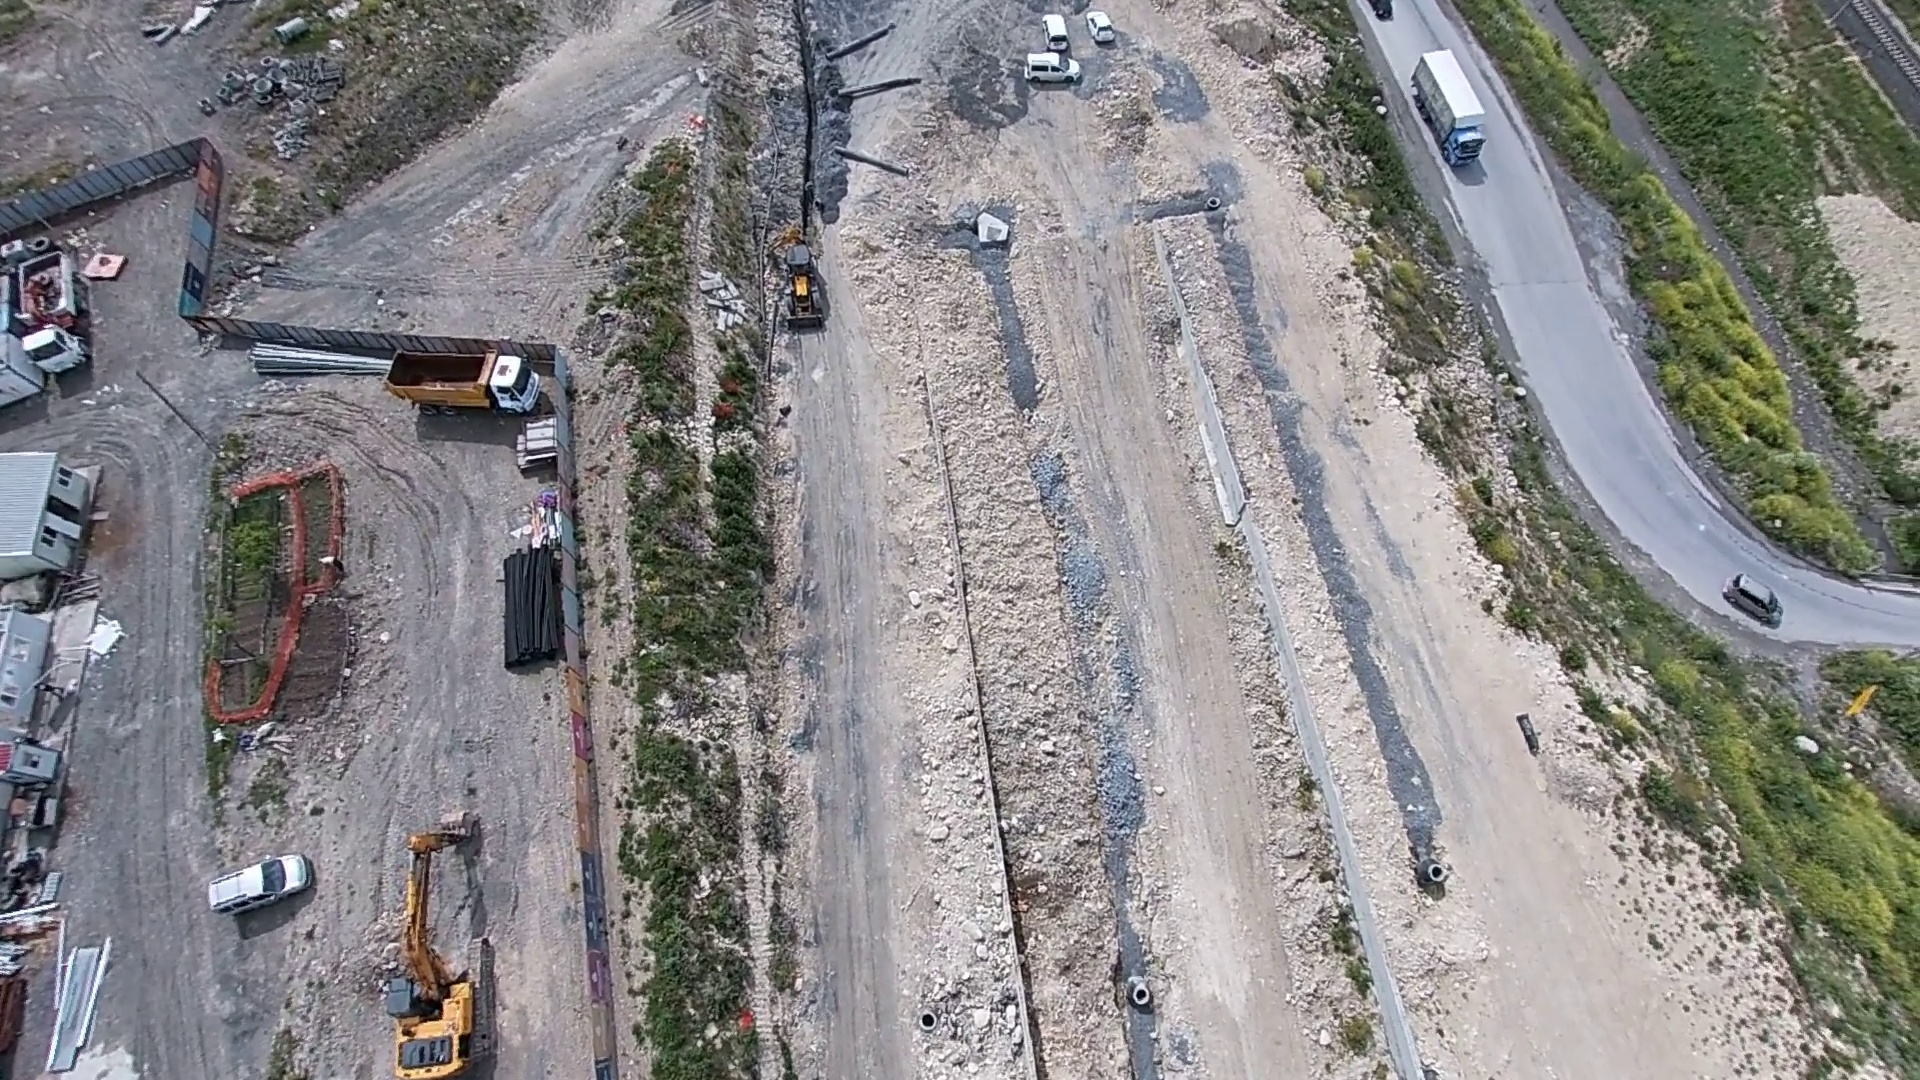arac: (378, 803, 500, 1080), (378, 338, 549, 422), (7, 248, 98, 386), (1404, 45, 1498, 167), (200, 843, 316, 939), (760, 216, 833, 336), (1717, 570, 1789, 626), (1021, 50, 1095, 84), (1043, 7, 1075, 53), (1085, 5, 1121, 42)
